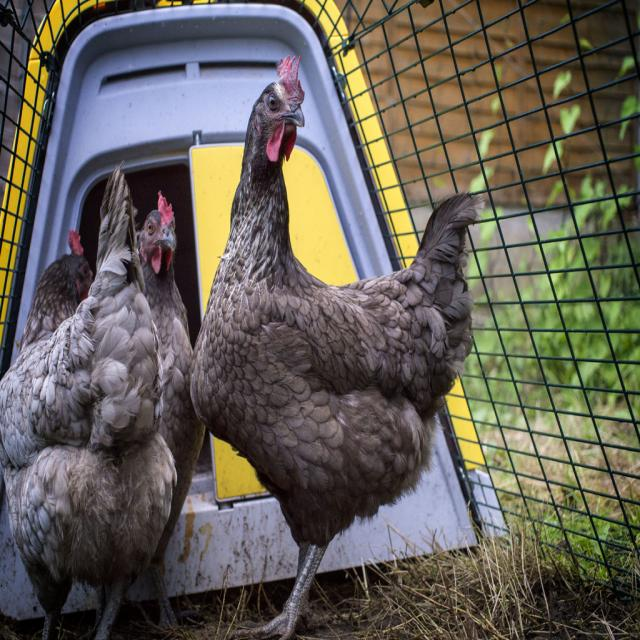Chicken: (182, 72, 486, 630), (0, 162, 180, 640)
